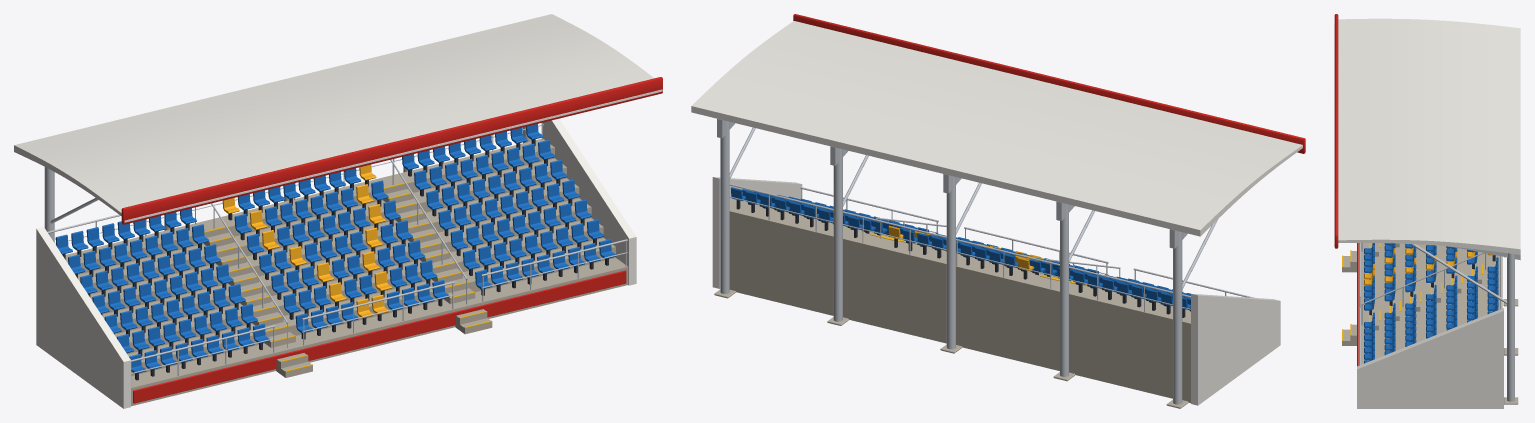
The model's file is grandstand.glb.
The picture shows the model from 3 angles, left to right: view 1: azimuth 30°, elevation 25°; view 2: azimuth 150°, elevation 25°; view 3: azimuth 270°, elevation 25°; orthographic projection. The views are drawn at different scales.
Visible parts, largest first — view 1: grandstand; view 2: grandstand; view 3: grandstand.
Part boxes in pixels (x1,y1,x2,y2): grandstand: [14, 14, 662, 408]; grandstand: [691, 14, 1305, 408]; grandstand: [1334, 14, 1520, 408].
Size of the model in its own units: 21.7 by 8.16 by 7.71.
